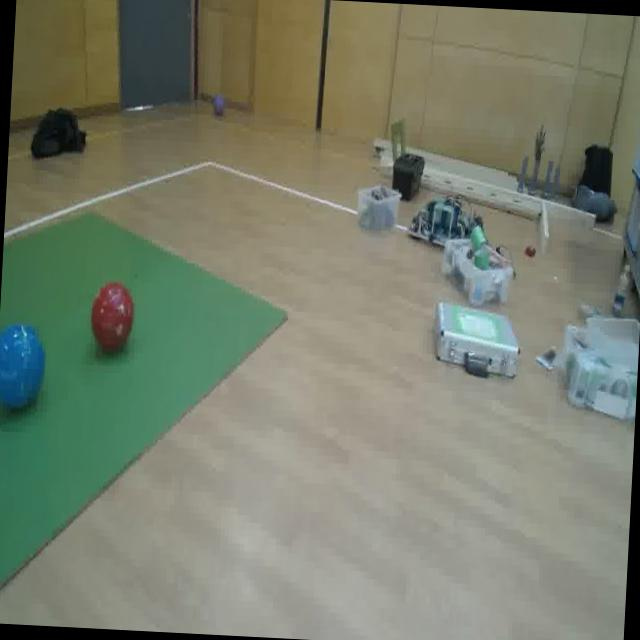blue_ball: (0, 313, 52, 430)
purple_ball: (210, 92, 228, 122)
red_ball: (88, 275, 138, 360)
